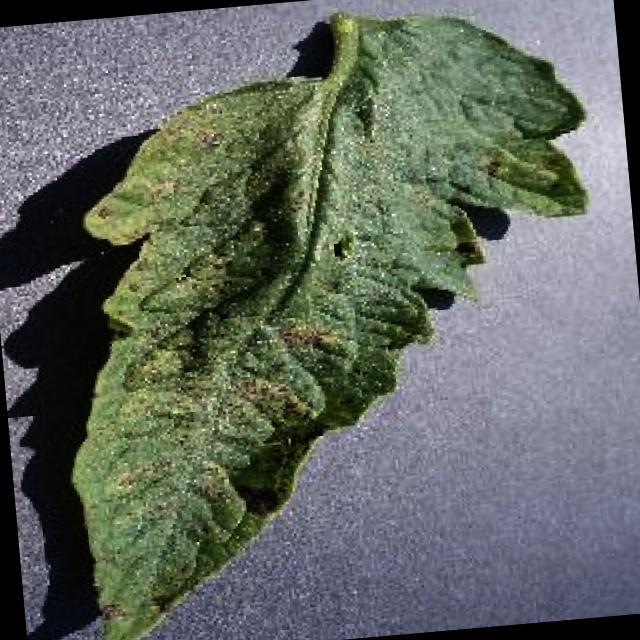Tomato Septoria spot leaf: (30, 0, 632, 640)
